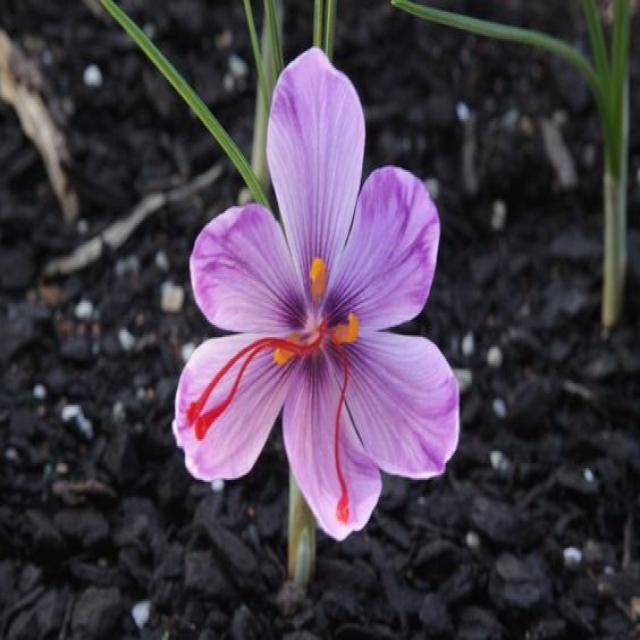Flower: (174, 49, 458, 539)
stigma: (182, 335, 323, 429), (191, 334, 311, 442), (325, 335, 353, 530)
